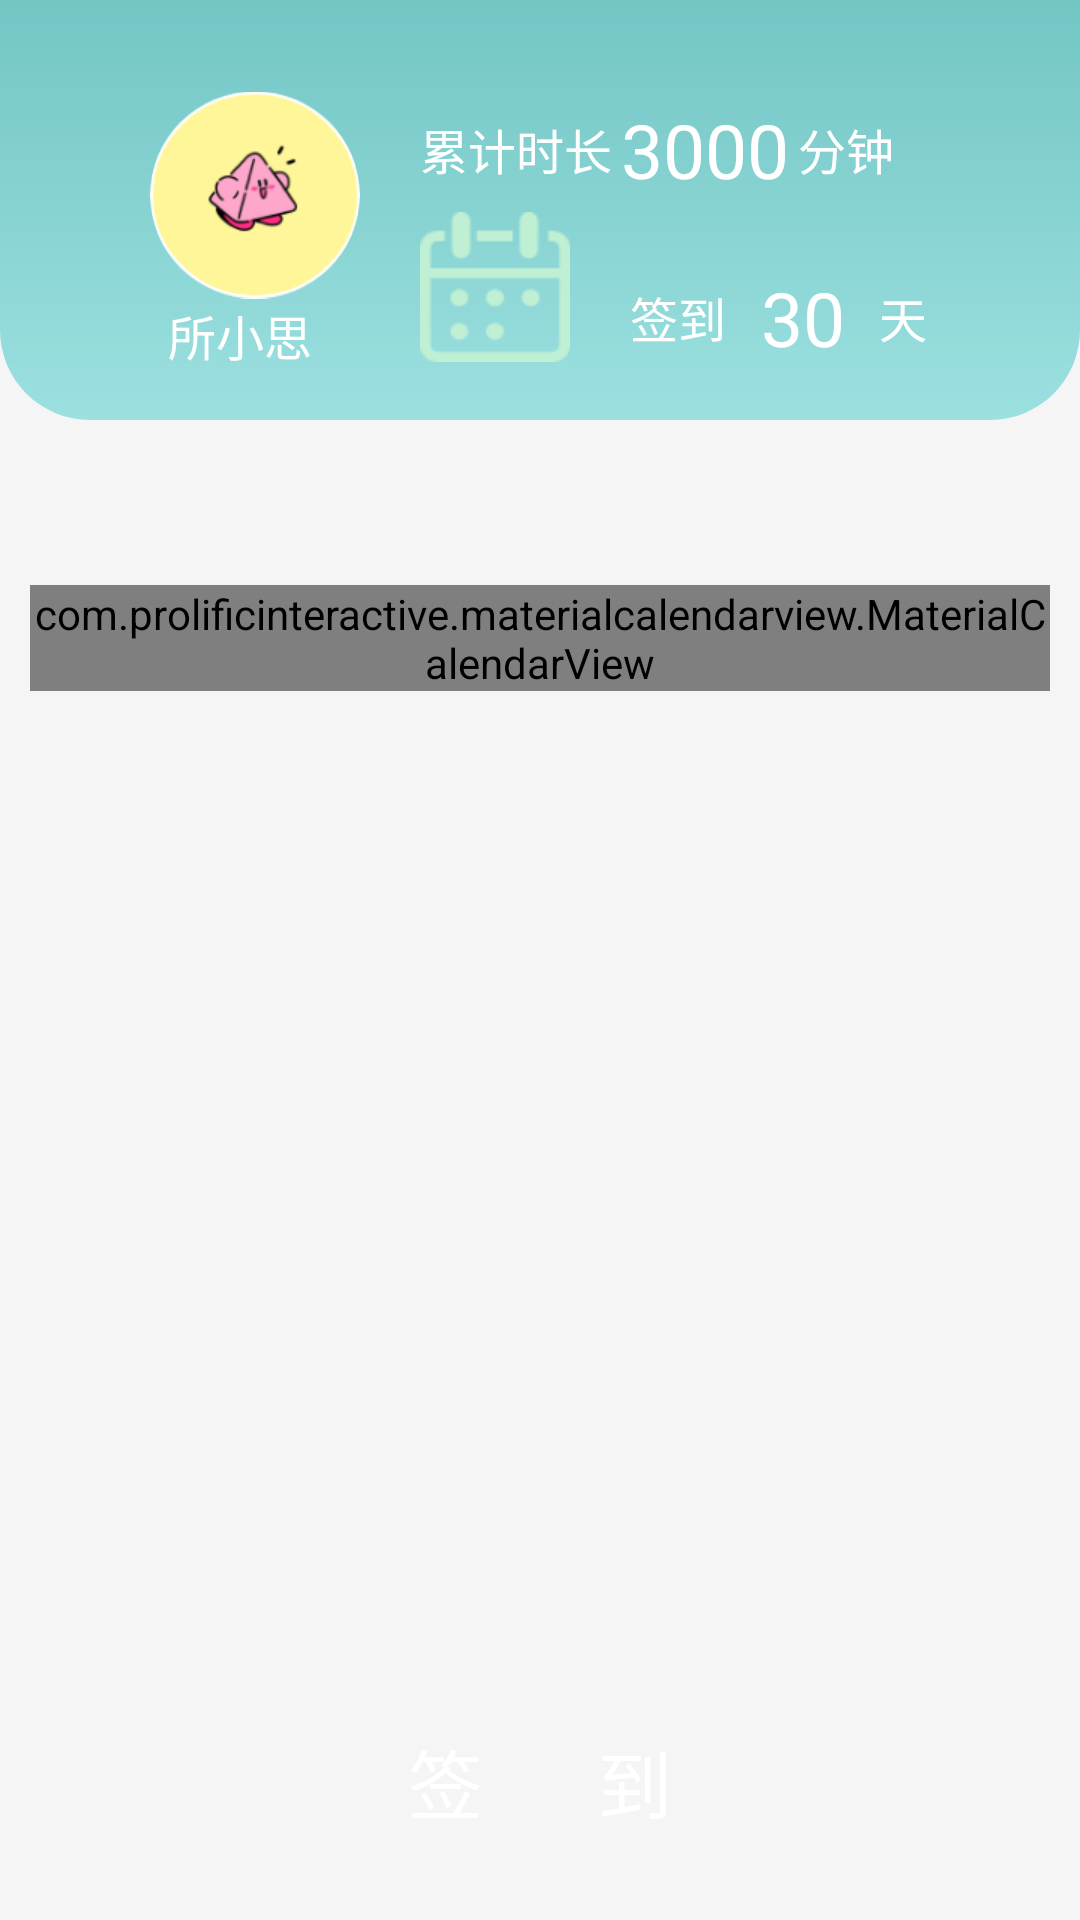

Named icons in this screenshot (1080*1920) and their centers, [x,y]:
signin: [495,287]
